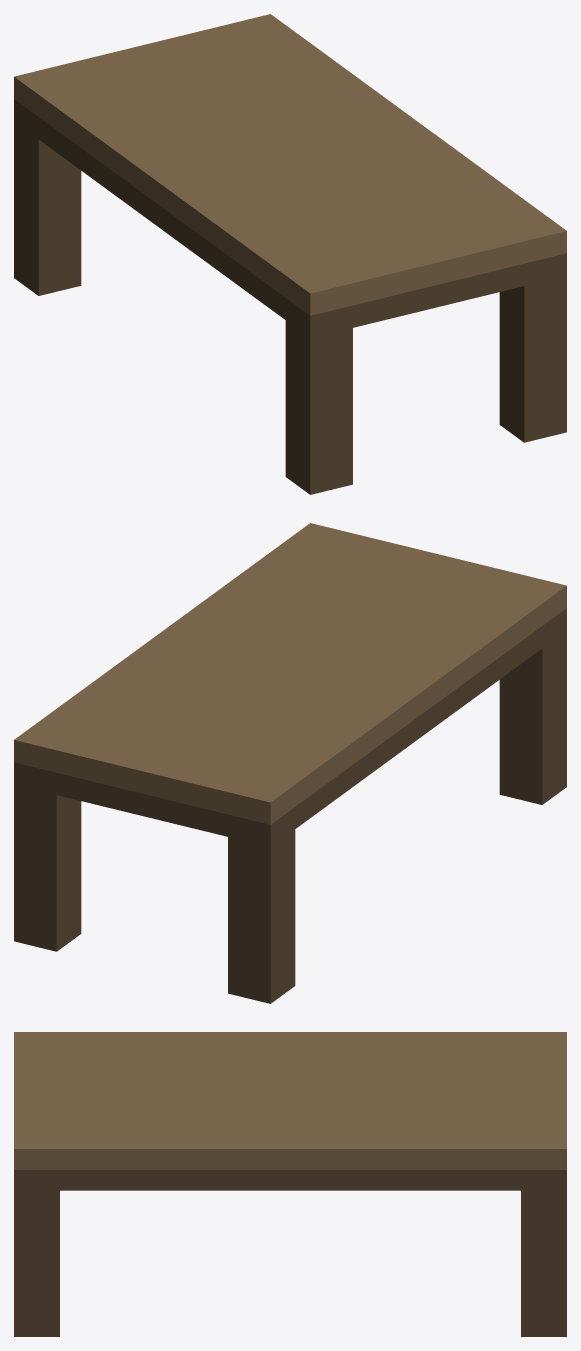
The model's file is mesa_cocina_nogal_pulido_01.glb.
The picture shows the model from 3 angles, top to bottom: view 1: azimuth 30°, elevation 25°; view 2: azimuth 150°, elevation 25°; view 3: azimuth 270°, elevation 25°; orthographic projection. The views are drawn at different scales.
Parts seen in each view (by area): view 1: mesa_cocina_nogal_pulido; view 2: mesa_cocina_nogal_pulido; view 3: mesa_cocina_nogal_pulido.
Boxes of the visible parts, box(x1,y1,x2,y2) form: mesa_cocina_nogal_pulido: box(14, 14, 566, 494); mesa_cocina_nogal_pulido: box(14, 523, 566, 1003); mesa_cocina_nogal_pulido: box(14, 1032, 566, 1336).
Size of the model in its own units: 1 by 0.75 by 2.
